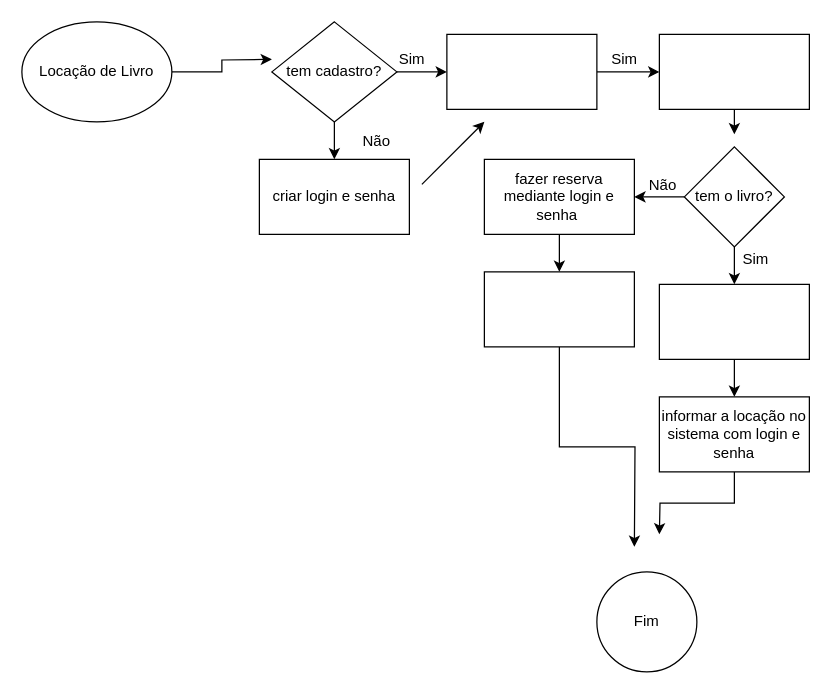
The diagram is 831 pixels wide and 694 high, and some of its shapes have lost their labels. The centre of each missing label's shape, as x and y in pixels:
acessar com login e senha: pixel 521 71
buscar o livro nas prateleiras físicas informado na pesquisa: pixel 733 321
buscar por livro no banco de dados: pixel 733 71
retirar o livro na data da reserva: pixel 558 309
